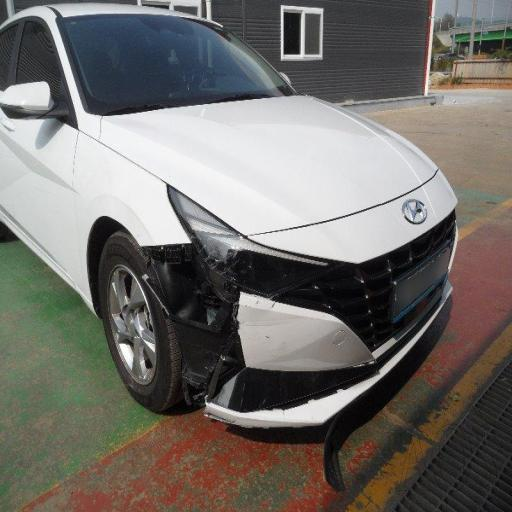broken: (141, 212, 289, 414)
